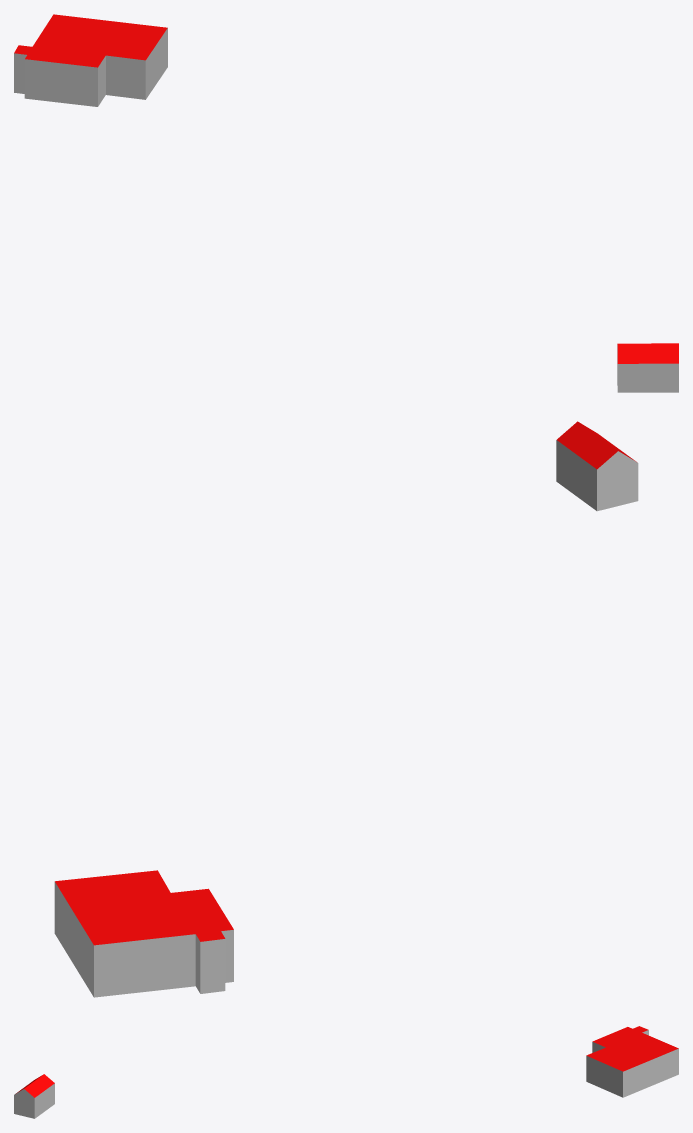
The picture shows the model from 3 angles, top to bottom: view 1: azimuth 30°, elevation 25°; view 2: azimuth 150°, elevation 25°; view 3: azimuth 270°, elevation 25°; orthographic projection. The views are drawn at different scales.
Bounding box in the file's own units: 27.47 × 5.28 × 116.
